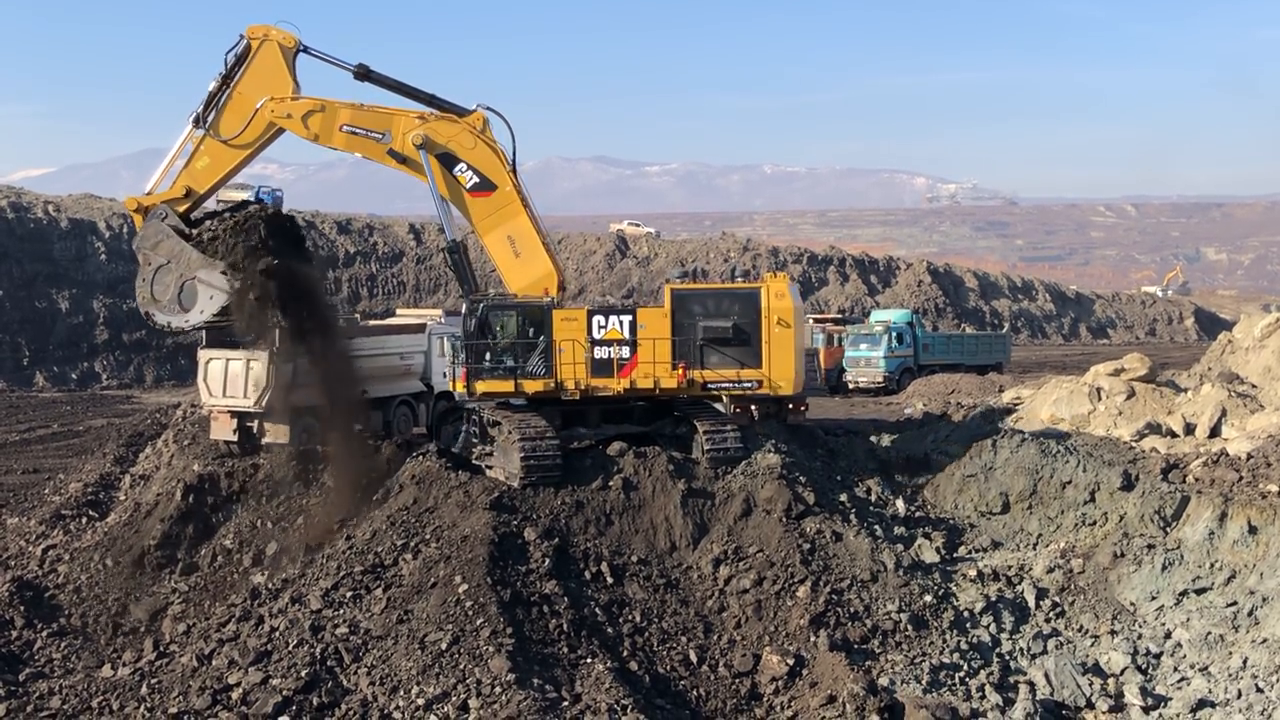full: (116, 188, 311, 330)
